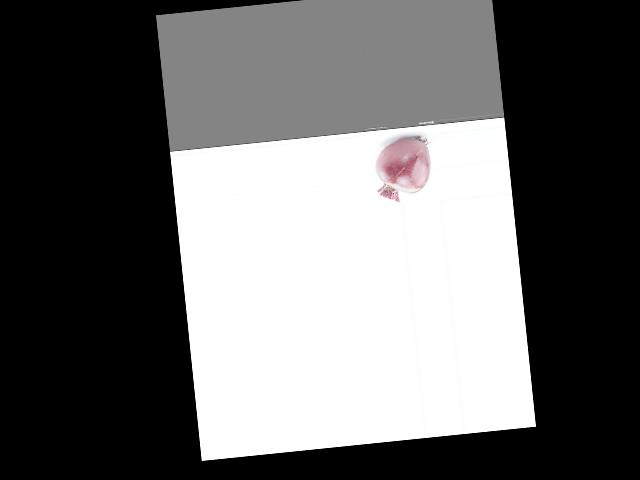beet: (372, 136, 434, 203)
